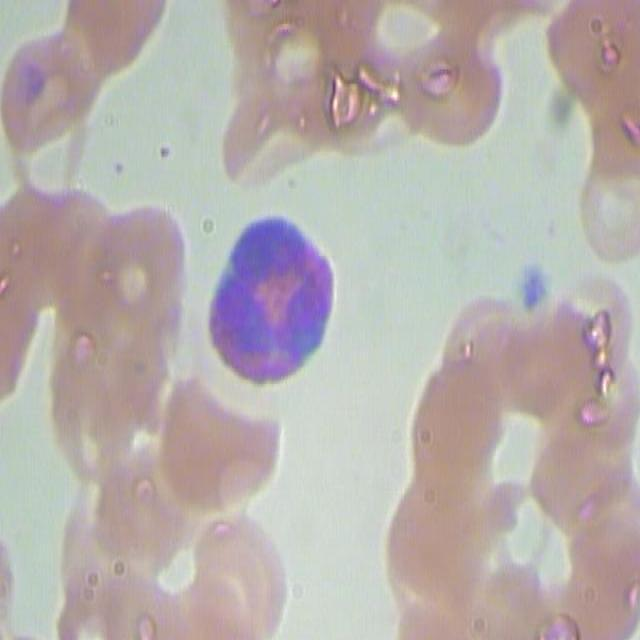RBC: (385, 479, 502, 640), (374, 0, 502, 147), (158, 380, 280, 524), (471, 486, 598, 622), (185, 517, 289, 640), (53, 348, 152, 476), (92, 207, 189, 336), (230, 0, 337, 113), (28, 176, 98, 336), (0, 30, 93, 149), (67, 459, 156, 582), (564, 286, 640, 424), (291, 47, 386, 156), (540, 2, 638, 105), (456, 308, 539, 422), (342, 0, 450, 80), (64, 0, 175, 77), (419, 371, 506, 462), (0, 195, 38, 403), (572, 160, 640, 265)
WBC: (195, 202, 339, 420)
platelets: (514, 260, 553, 324)
